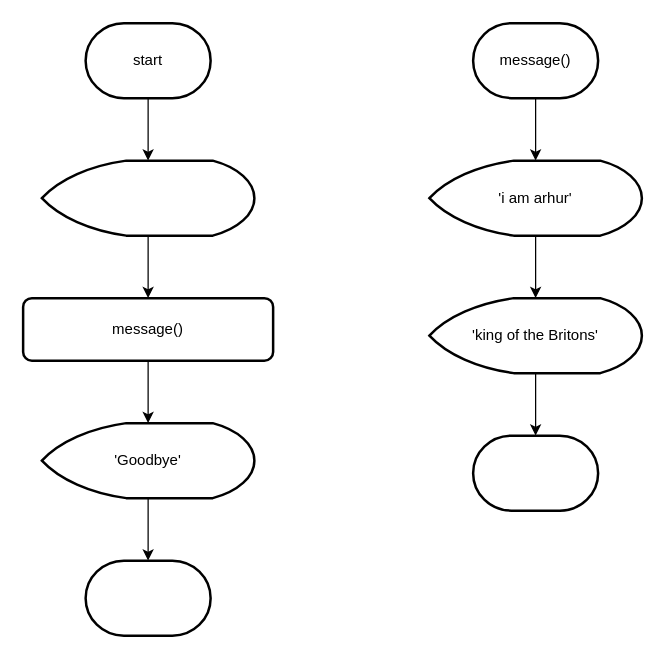
Image size: 664x658. Some labels were removed from this diagram. The centre of each missing label's shape, as x and y in pixels:
'i heve a message for you': the point at 147,197
return: the point at 535,472
stop: the point at 147,597
